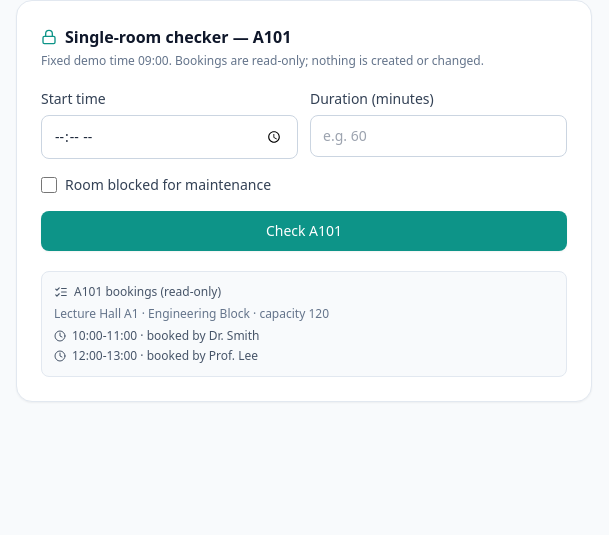
Test: ContractChecker UI › T3 through the form: blocked room shows the BLOCKED message
Type "13:30" into the time field labelled "Start time".
click(170, 137); type("13:30")  # box top-left (41, 115), bottom-right (298, 159)
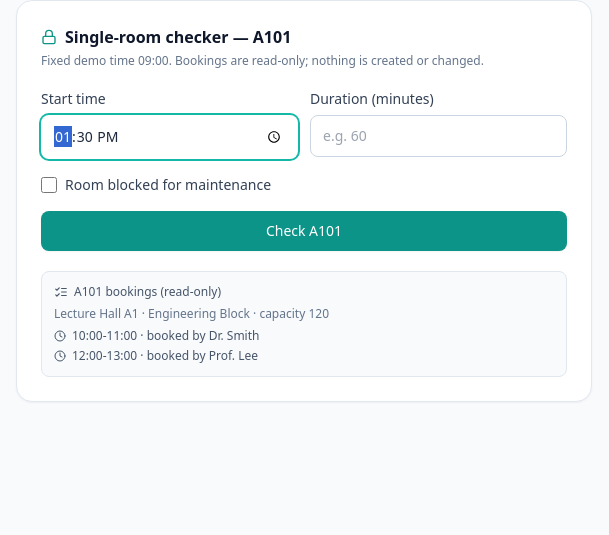
Type "60" into the number field labelled "Duration (minutes)".
click(438, 136); type("60")  # box top-left (310, 115), bottom-right (567, 157)
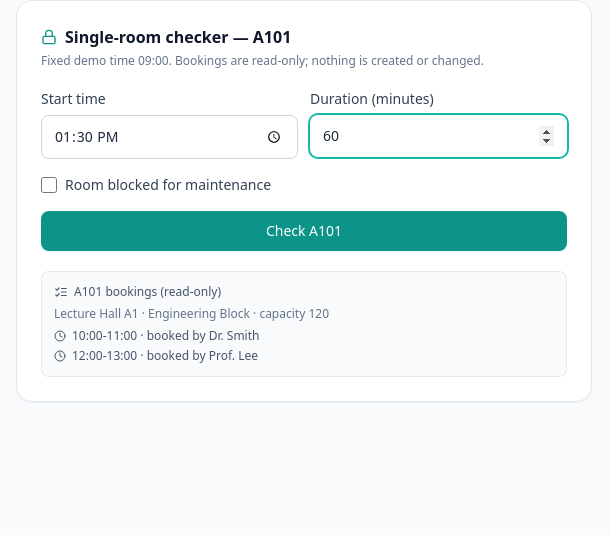
Click the checkbox labelled "Room blocked for maintenance".
click(49, 185)  # box top-left (41, 177), bottom-right (57, 193)
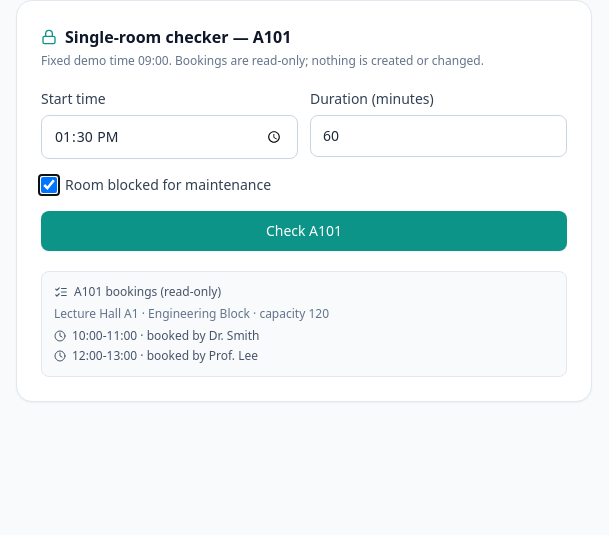
Click the button "Check A101".
click(304, 231)  # box top-left (41, 211), bottom-right (567, 251)
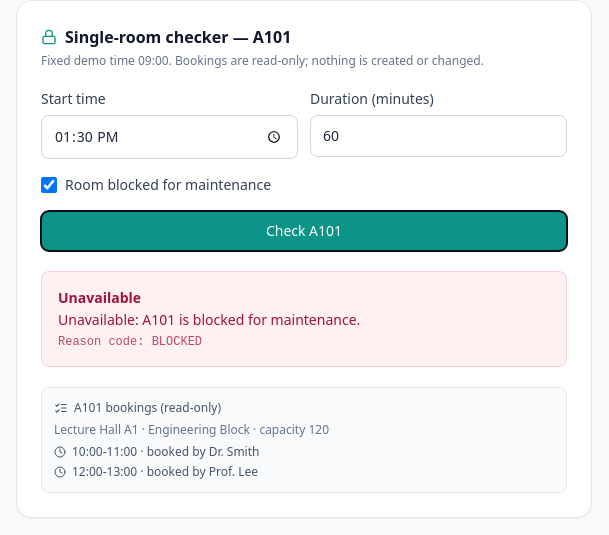
Check: the text "Unavailable: A101 is blocked for maintenance." is shown, box top-left (58, 310), bottom-right (360, 329)
Check: the text "Reason code: BLOCKED" is shown, box top-left (58, 335), bottom-right (202, 349)
